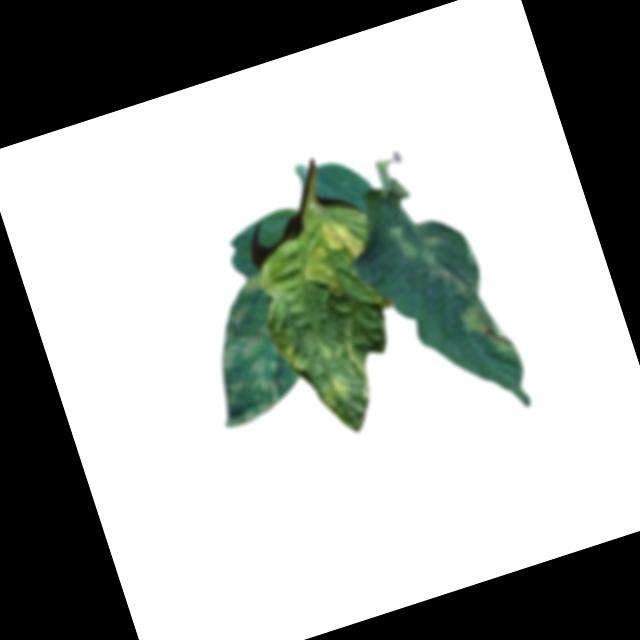Leaf_Mold: (186, 275, 304, 431), (457, 291, 520, 368), (319, 204, 378, 269), (295, 242, 344, 310), (384, 217, 423, 265), (319, 374, 353, 410)
